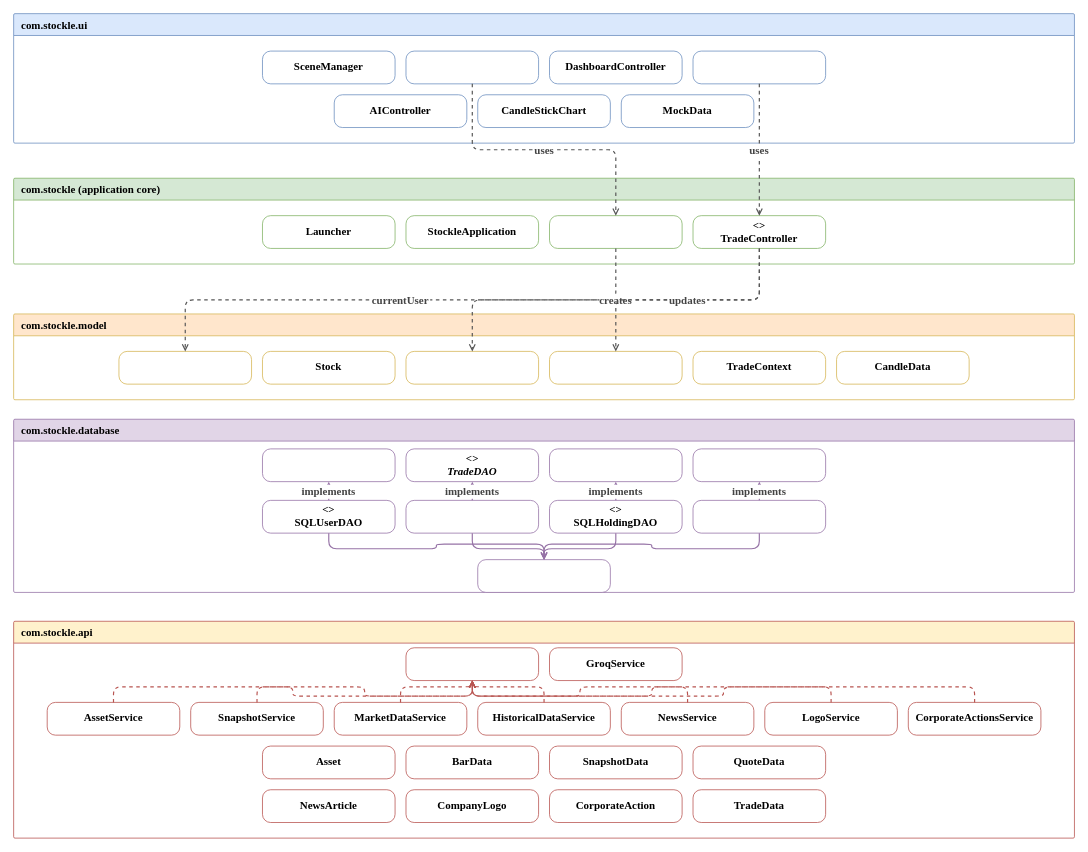
This 1088x852 diagram has some shape labels left out. Each missing label, with the centre of its shape:
"<> FavouritesDAO" goes at [759,465].
"<> HoldingDAO" goes at [615,465].
"<> SessionManager" goes at [615,231].
"<> SQLFavouritesDAO" goes at [759,516].
"<> SqliteConnection" goes at [543,575].
"<> SQLTradeDAO" goes at [472,516].
"<> UserDAO" goes at [328,465].
"ApiClient" goes at [472,664].
"AuthController" goes at [472,67].
"Holding" goes at [615,367].
"Trade" goes at [472,367].
"TradingController" goes at [759,67].
"User" goes at [185,367].
